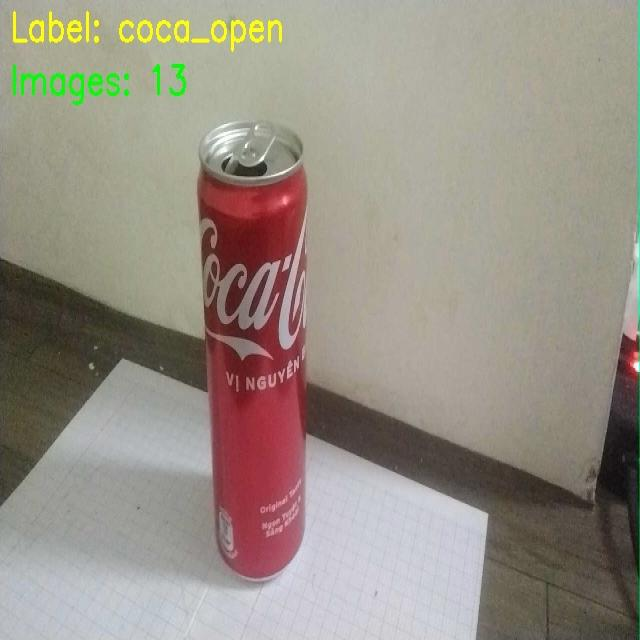Coca_open: (166, 95, 344, 599)
